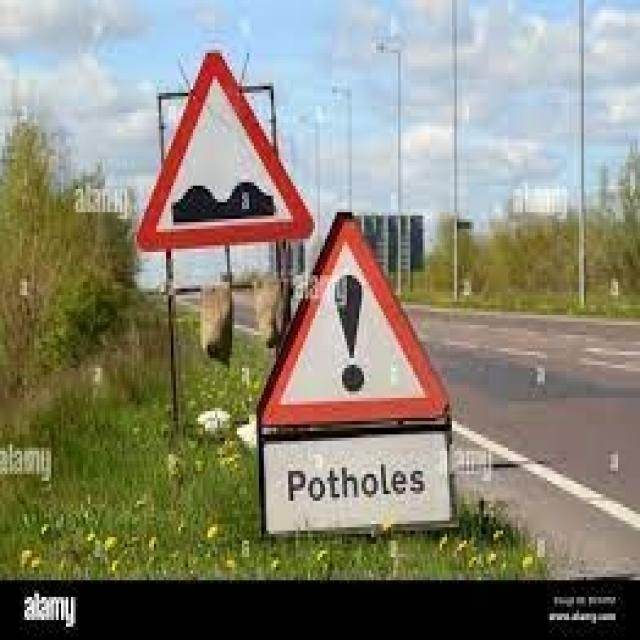warning: (262, 207, 448, 430)
